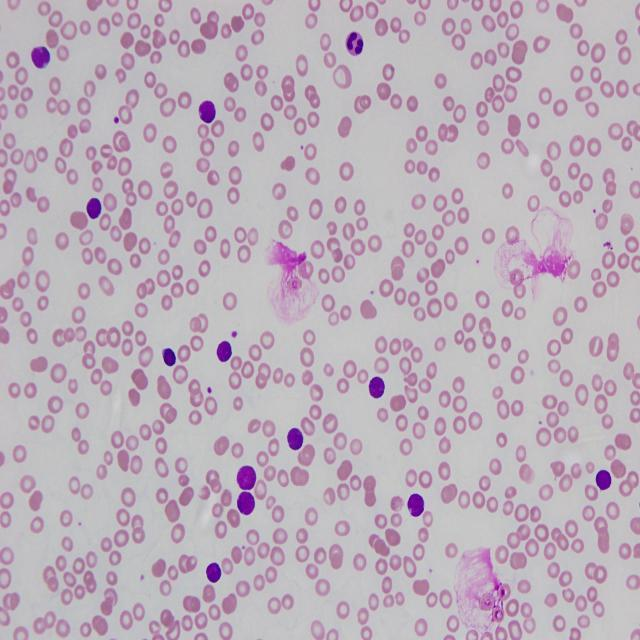cell: (236, 465, 256, 490), (238, 492, 255, 515), (199, 100, 216, 123), (408, 493, 424, 517), (288, 428, 304, 450), (369, 377, 385, 398), (216, 342, 232, 362), (596, 470, 611, 490), (206, 563, 221, 583), (86, 198, 101, 218)
